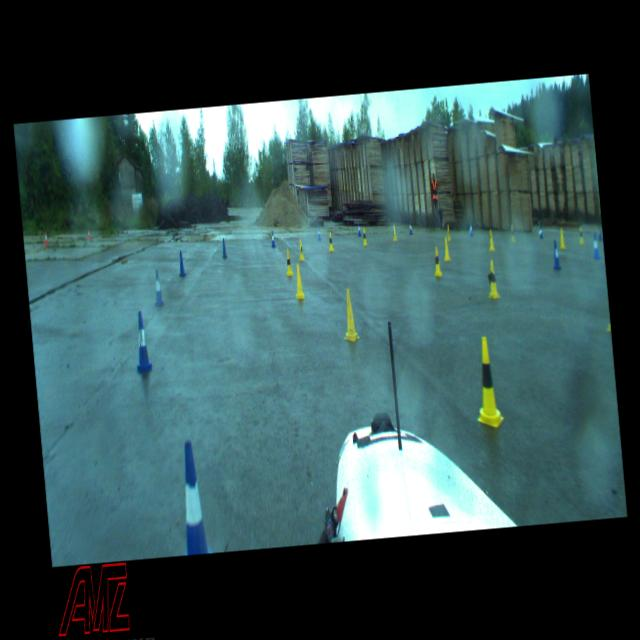blue_cone: (170, 440, 212, 555), (131, 310, 152, 372), (152, 270, 163, 306), (550, 238, 560, 270), (591, 232, 600, 258), (177, 250, 185, 276), (220, 238, 227, 258), (596, 224, 602, 242), (270, 231, 276, 247), (468, 220, 473, 237), (356, 222, 361, 236), (538, 223, 542, 239), (317, 226, 321, 240), (408, 222, 412, 234)
orange_cone: (43, 231, 48, 245), (86, 227, 90, 240)
yellow_cone: (470, 334, 504, 428), (339, 286, 360, 342), (484, 260, 500, 300), (292, 262, 304, 300), (432, 246, 442, 276), (284, 248, 293, 276), (441, 237, 450, 260), (558, 228, 566, 248), (297, 238, 304, 260), (487, 228, 494, 250), (578, 224, 584, 244), (328, 231, 333, 251), (509, 224, 514, 244), (362, 228, 366, 245), (392, 224, 396, 240), (446, 224, 450, 240)
